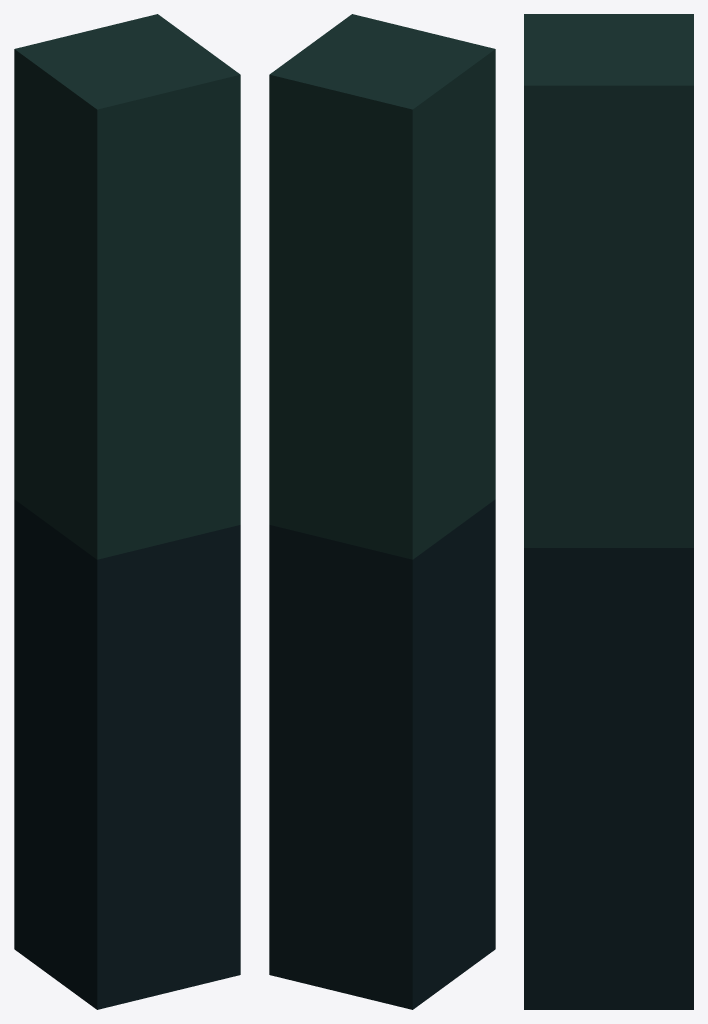
Rendered from Grass_6.obj.
3 views of the same model, side by side, from view 1: azimuth 30°, elevation 25°; view 2: azimuth 150°, elevation 25°; view 3: azimuth 270°, elevation 25° (orthographic). The views are drawn at different scales.
Bounding box in the file's own units: 0.025 × 0.15 × 0.025.
